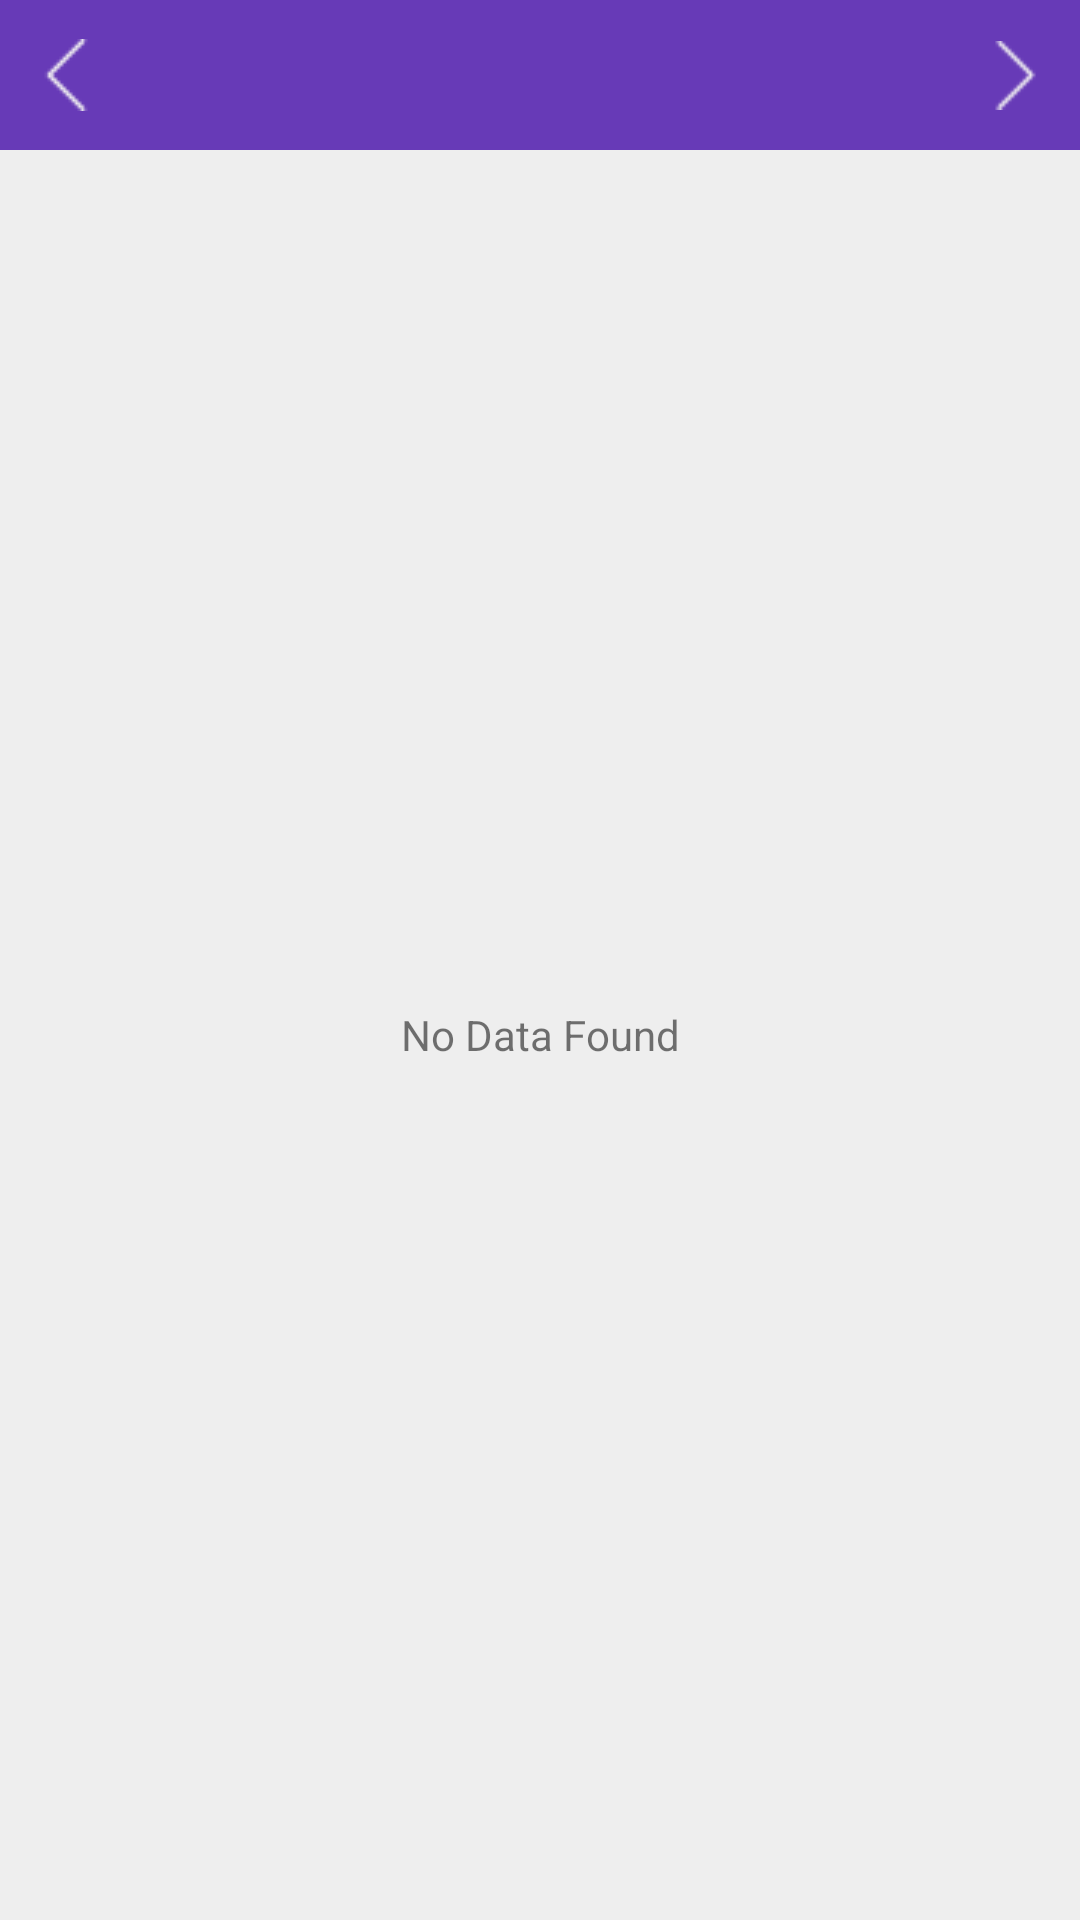

Point at icon controls on the screen. Image size 1080x1920, points as (x=x, y=y).
arrow right: (x=1015, y=75)
left arrow: (x=67, y=75)
